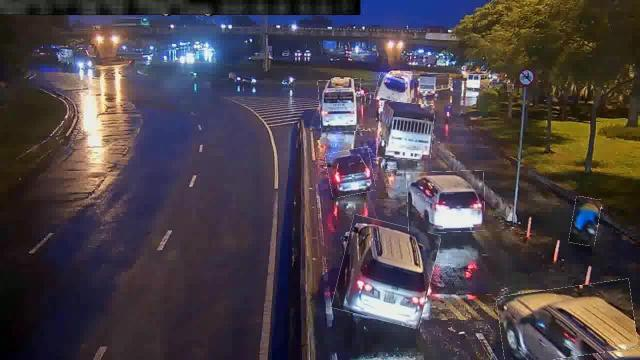Bike: (571, 198, 601, 246)
Bus: (319, 80, 363, 132), (375, 75, 419, 107)
Car: (336, 219, 436, 324), (498, 283, 636, 359), (407, 172, 485, 232), (326, 148, 374, 196)
Truck: (378, 102, 434, 160), (406, 74, 448, 98)
